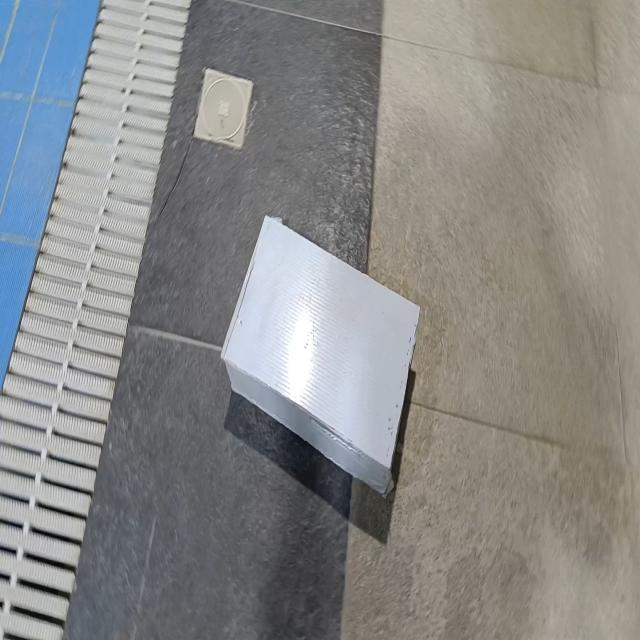Cuboid: (219, 212, 421, 497)
